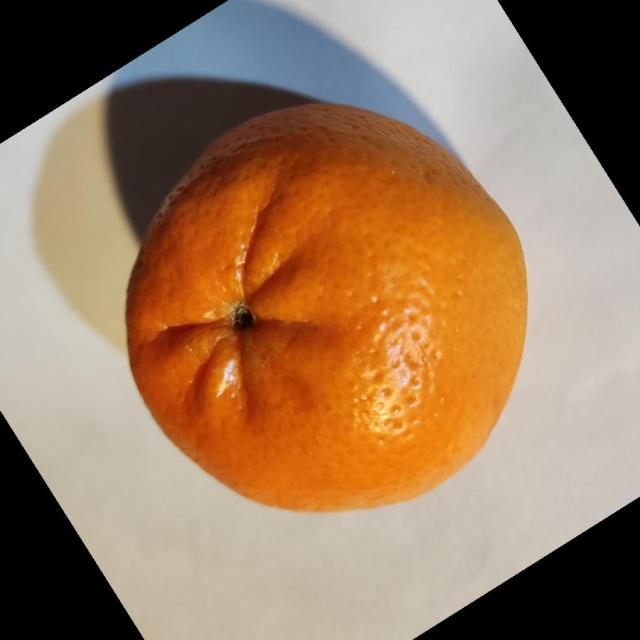fresh orange: (124, 100, 529, 513)
